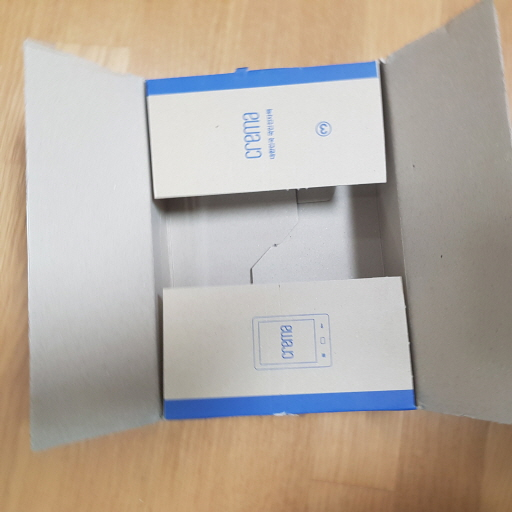Paper_0: (16, 1, 512, 452)
